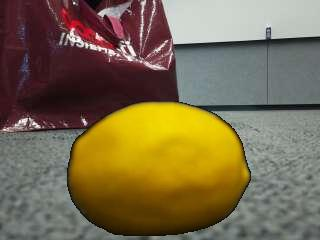lemon: (69, 101, 251, 235)
